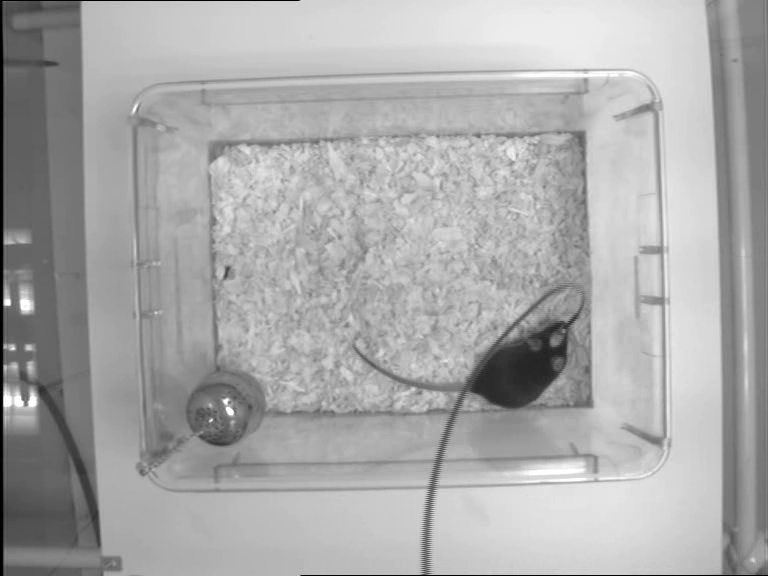mice: (351, 318, 572, 409)
